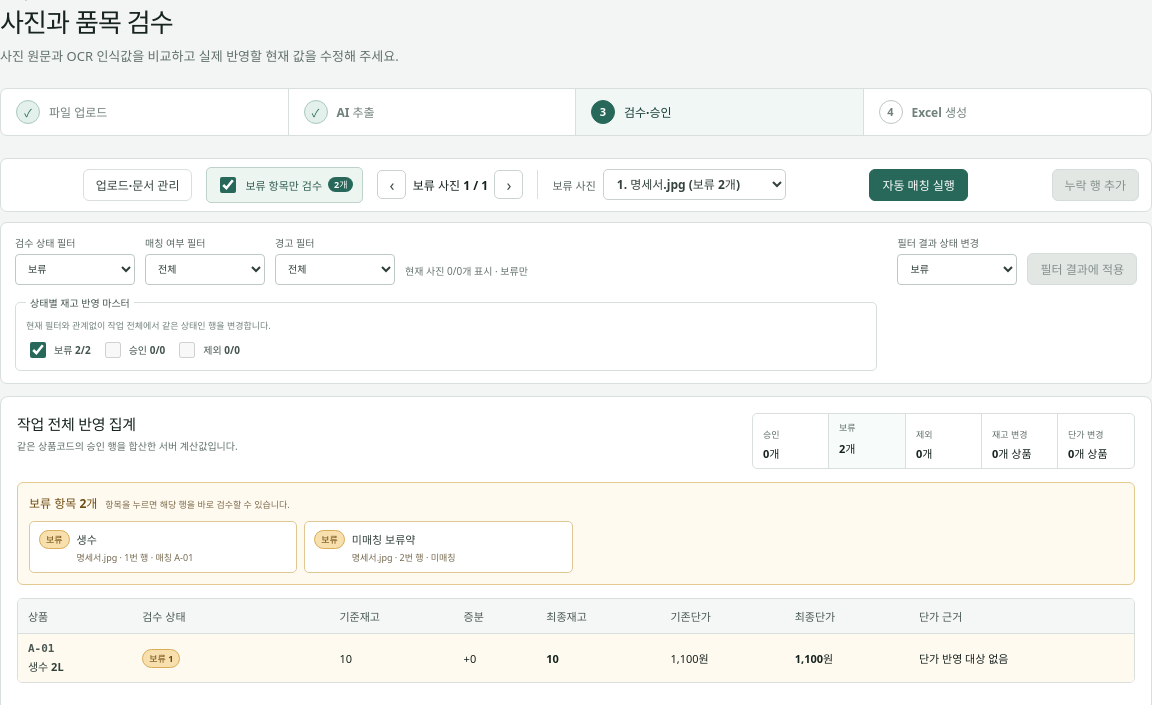
Test: 사진과 품목 검수 › 전체 집계에서 매칭·미매칭 보류 항목과 상품별 상태를 바로 표시한다
Expected: the button with aria-label "명세서.jpg 2번 행 미매칭 보류약 보류 항목 검수" shows "미매칭", [304,521,573,573]
Expected: the text "보류 1" is shown, [142,649,180,668]
What coordinates should you click on to do the following:
click the button with aria-label "명세서.jpg 1번 행 생수 보류 항목 검수"
I would click on:
 (54, 539)
Its box is [29,521,297,573].
(page scrolled)
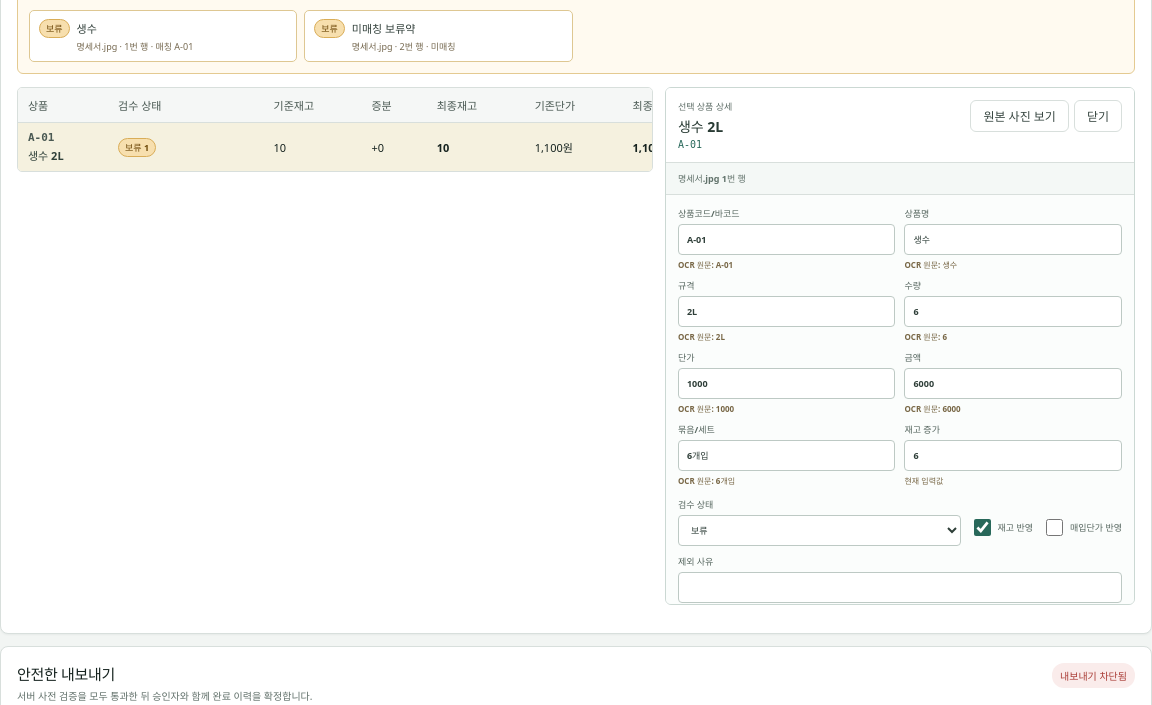
Result: the element named "선택 상품 바로 수정" is shown at [665,87,1135,605]
